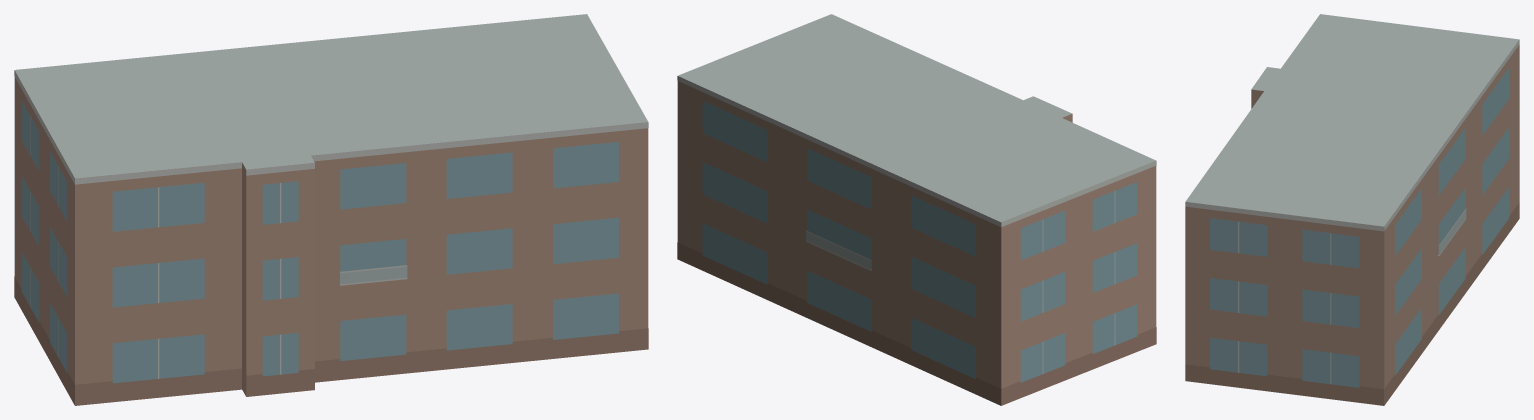
File: survey-upis-32894978.glb
3 views of the same model, side by side, from view 1: azimuth 30°, elevation 25°; view 2: azimuth 150°, elevation 25°; view 3: azimuth 270°, elevation 25° (orthographic). The views are drawn at different scales.
Parts seen in each view (by area): view 1: survey-upis-32894978.tmp; view 2: survey-upis-32894978.tmp; view 3: survey-upis-32894978.tmp.
Boxes of the visible parts, bbox=[...] form: survey-upis-32894978.tmp: bbox=[14, 14, 648, 405]; survey-upis-32894978.tmp: bbox=[677, 14, 1156, 405]; survey-upis-32894978.tmp: bbox=[1185, 14, 1519, 405].
Size of the model in its own units: 23.29 by 9.15 by 15.47.
